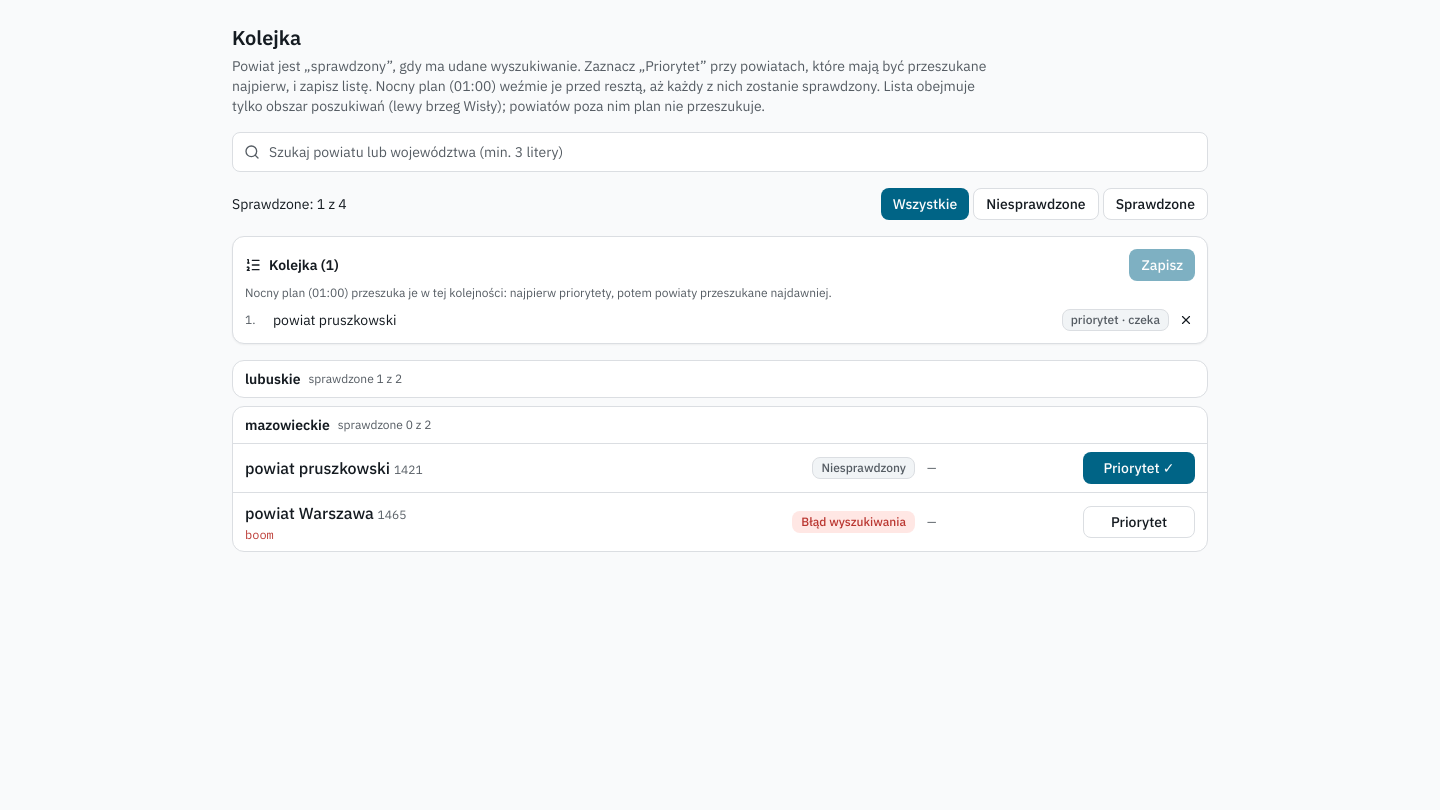
Test: PowiatyPage › says the preview updates after saving when there are unsaved changes
The width and height of the screenshot is (1440, 810).
Expected: the text "Sprawdzone: 1 z 4" is shown, left=232, top=194, right=347, bottom=214
Click the text "lubuskie". click: (273, 379)
box: left=245, top=369, right=300, bottom=389
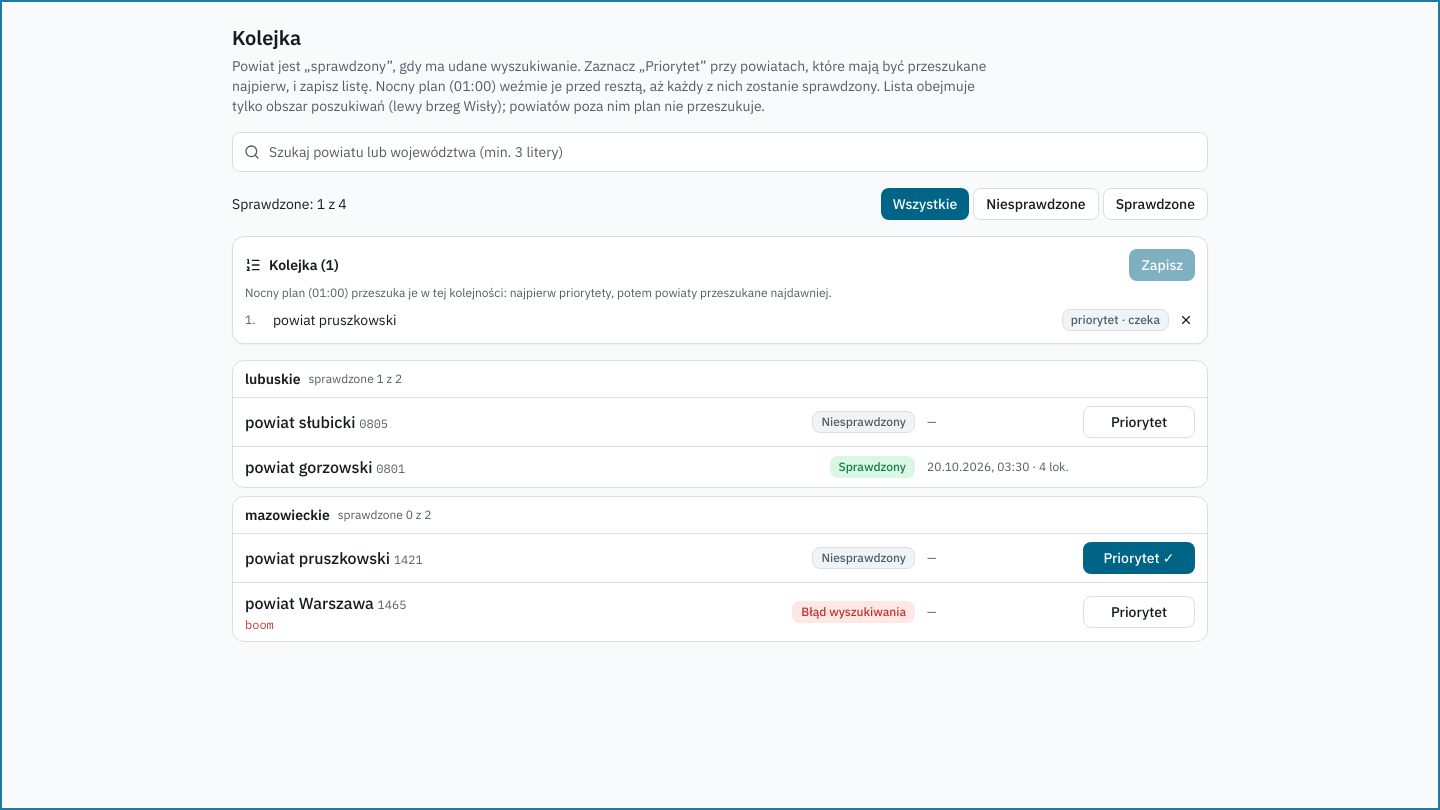
Click the button with aria-label "Priorytet: powiat słubicki". click: (1139, 422)
box: left=1083, top=406, right=1195, bottom=438
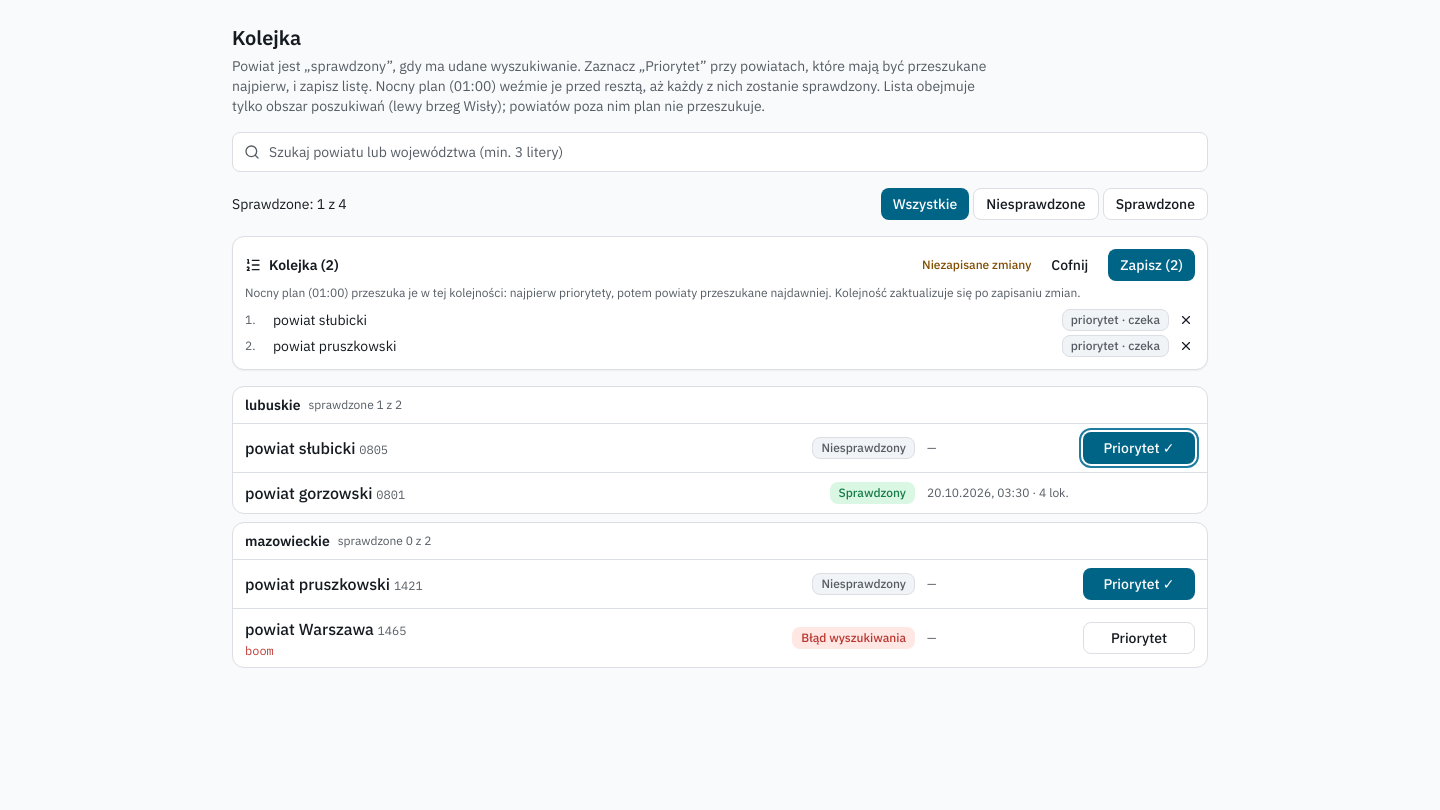
Now the text "zaktualizuje się po zapisaniu" is shown, box left=832, top=285, right=1080, bottom=300
